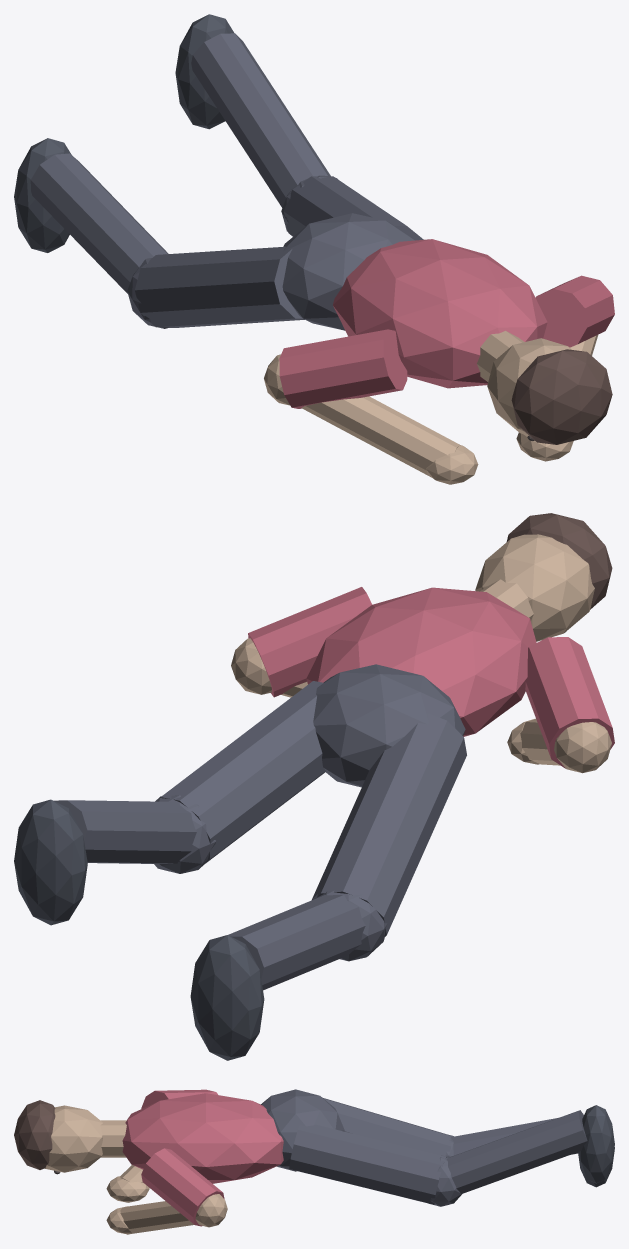
3 views of the same model, one above another, from view 1: azimuth 30°, elevation 25°; view 2: azimuth 150°, elevation 25°; view 3: azimuth 270°, elevation 25° (orthographic). The views are drawn at different scales.
Parts seen in each view (by area): view 1: world; view 2: world; view 3: world.
Part boxes in pixels (x1,y1,x2,y2): world: (14, 14, 614, 484); world: (14, 513, 614, 1060); world: (14, 1089, 614, 1234).
Bounding box in the file's own units: 0.93 × 0.52 × 2.08.
